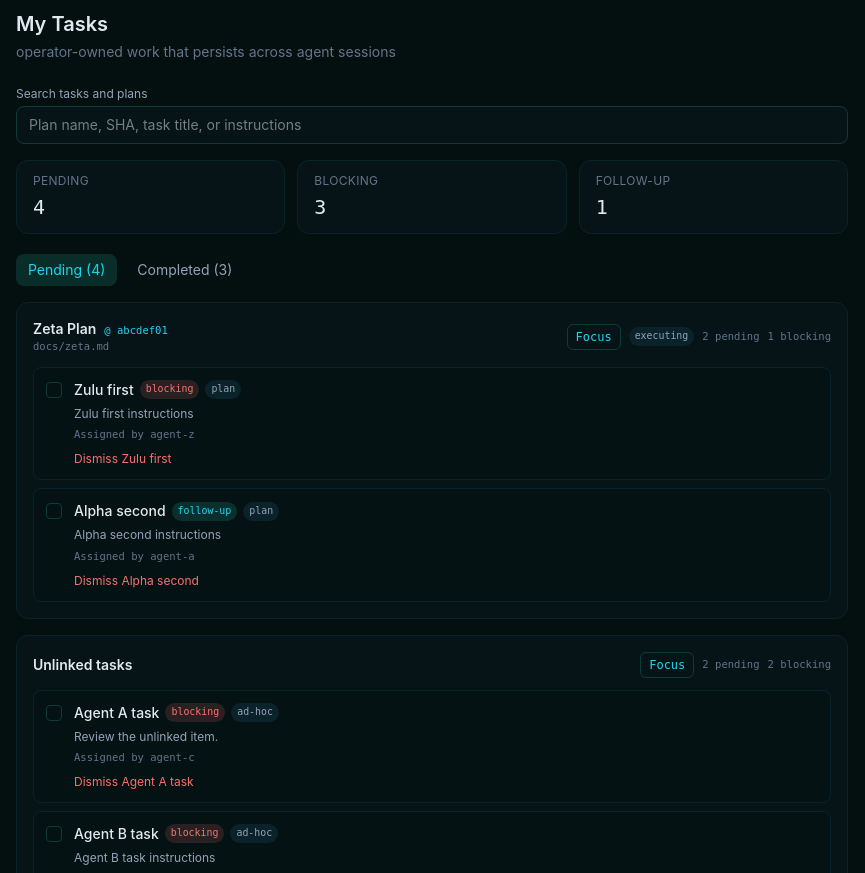
Scenario: MyTasks › focuses all visible Unlinked work without adding a plan filter
The image size is (865, 873).
Expected: the tab "Pending (4)" is shown, [16, 254, 117, 286]
Step 1. Click the button with aria-label "Focus Unlinked tasks" → [667, 664], box [640, 652, 694, 678]
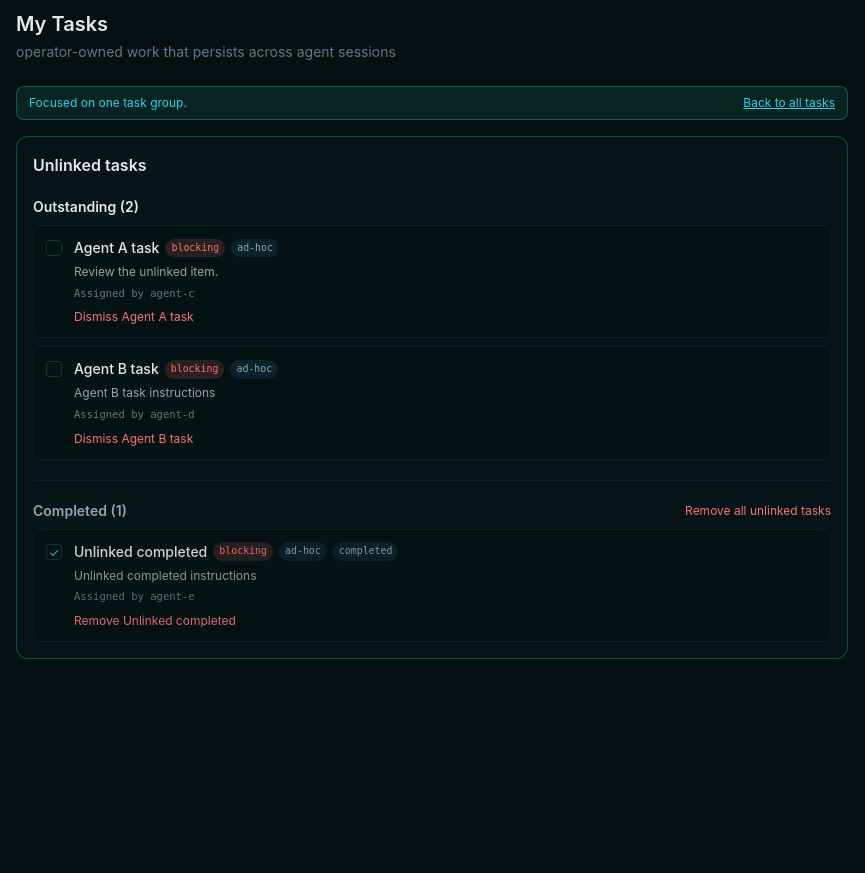
Expected: the heading "Outstanding (2)" is shown, [33, 198, 139, 215]
Expected: the heading "Completed (1)" is shown, [33, 501, 127, 521]
Expected: the heading "Unlinked completed" is shown, [74, 542, 207, 562]
